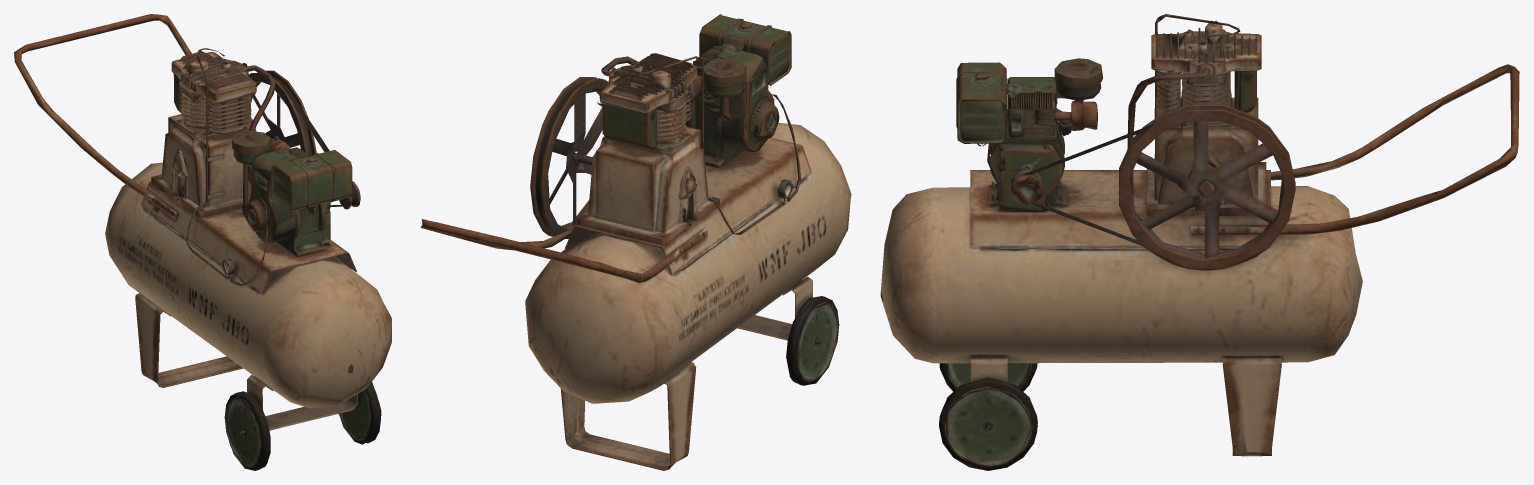
File: old_military_compressor.slim.glb
3 renders of one model, left to right at view 1: azimuth 30°, elevation 25°; view 2: azimuth 150°, elevation 25°; view 3: azimuth 270°, elevation 25°, orthographic. The views are drawn at different scales.
Size of the model in its own units: 0.5943 by 1.18 by 1.67.
2 materials, 2 textured.
